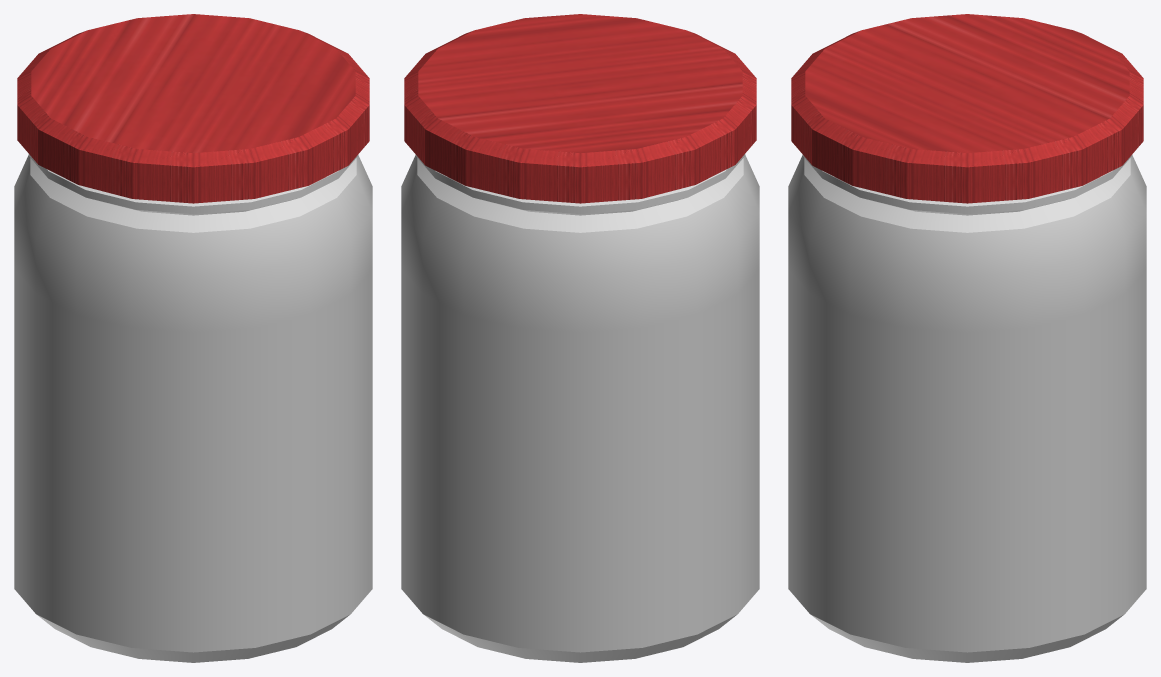
The model's file is tylenolbottle.FBX.
3 views of the same model, side by side, from view 1: azimuth 30°, elevation 25°; view 2: azimuth 150°, elevation 25°; view 3: azimuth 270°, elevation 25° (orthographic).
Parts seen in each view (by area): view 1: Tylenolbottle; view 2: Tylenolbottle; view 3: Tylenolbottle.
Boxes of the visible parts, bbox=[...] form: Tylenolbottle: bbox=[14, 14, 372, 662]; Tylenolbottle: bbox=[401, 14, 759, 662]; Tylenolbottle: bbox=[788, 14, 1146, 662].
Bounding box in the file's own units: 33.82 × 52.5 × 33.31.
Materials: 2 (1 with a texture image).
